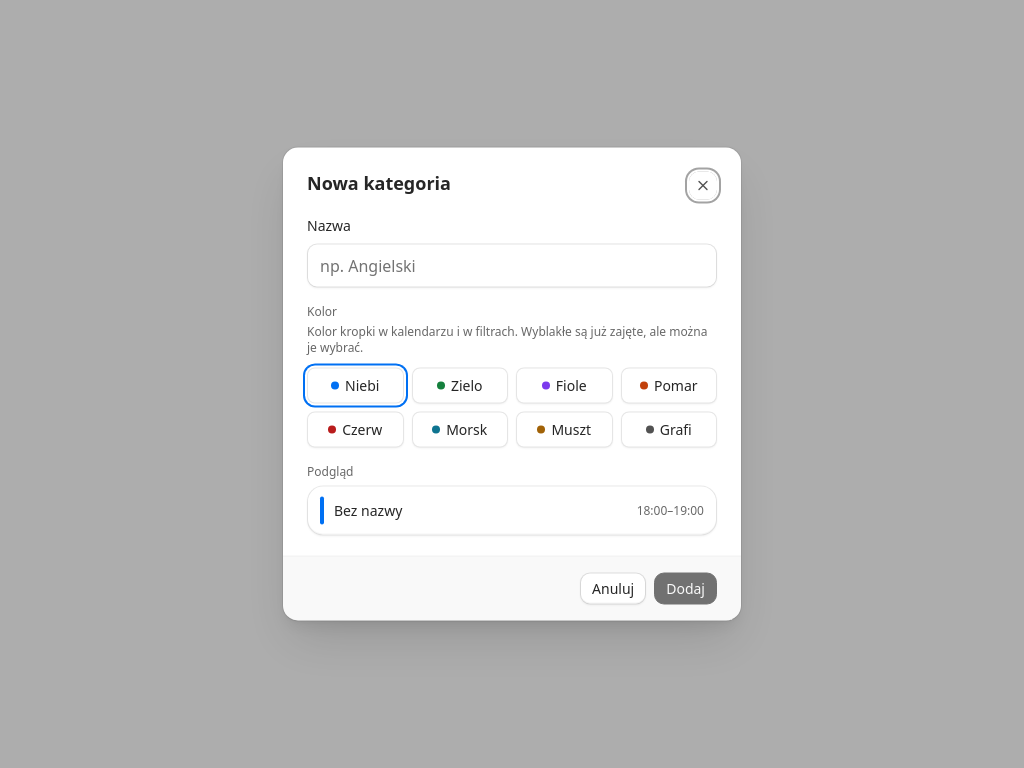
Test: MCategorySheet › pusta nazwa blokuje „Dodaj”; błąd pojawia się po dotknięciu pola
The width and height of the screenshot is (1024, 768).
expect the text "Nazwa nie może być pusta." is not shown: met
Type "A" into the field labelled "Nazwa".
click(512, 266); type("A")  # box [307,244,717,288]
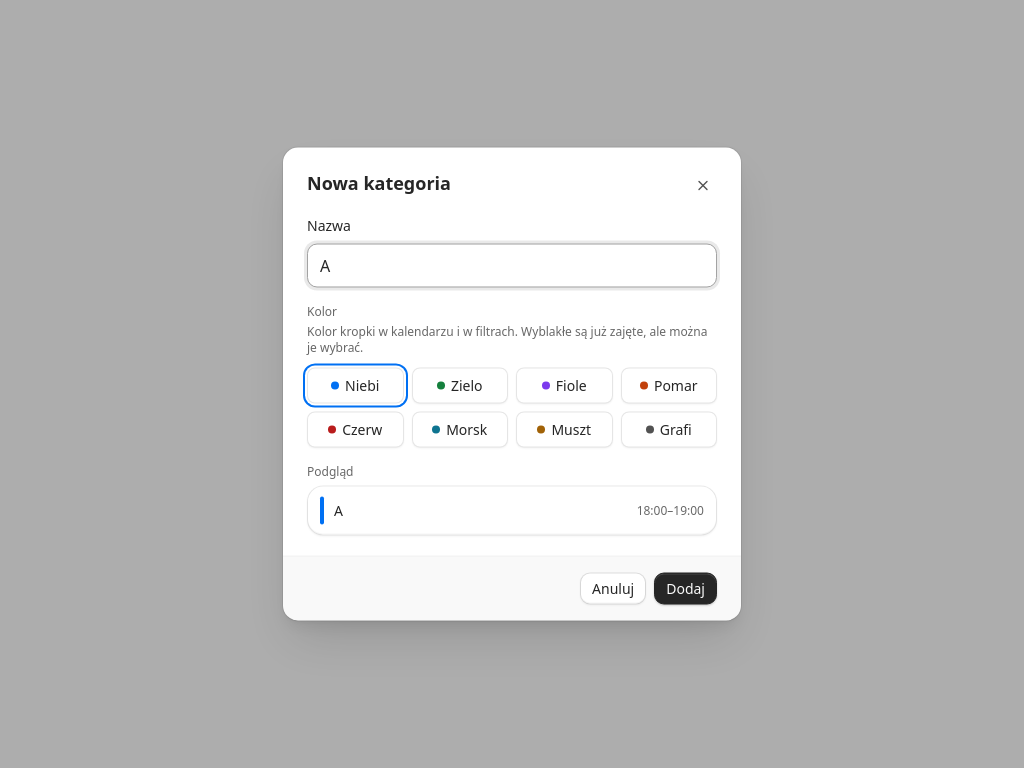
Clear the field labelled "Nazwa" at (512, 266), box [307,244,717,288]
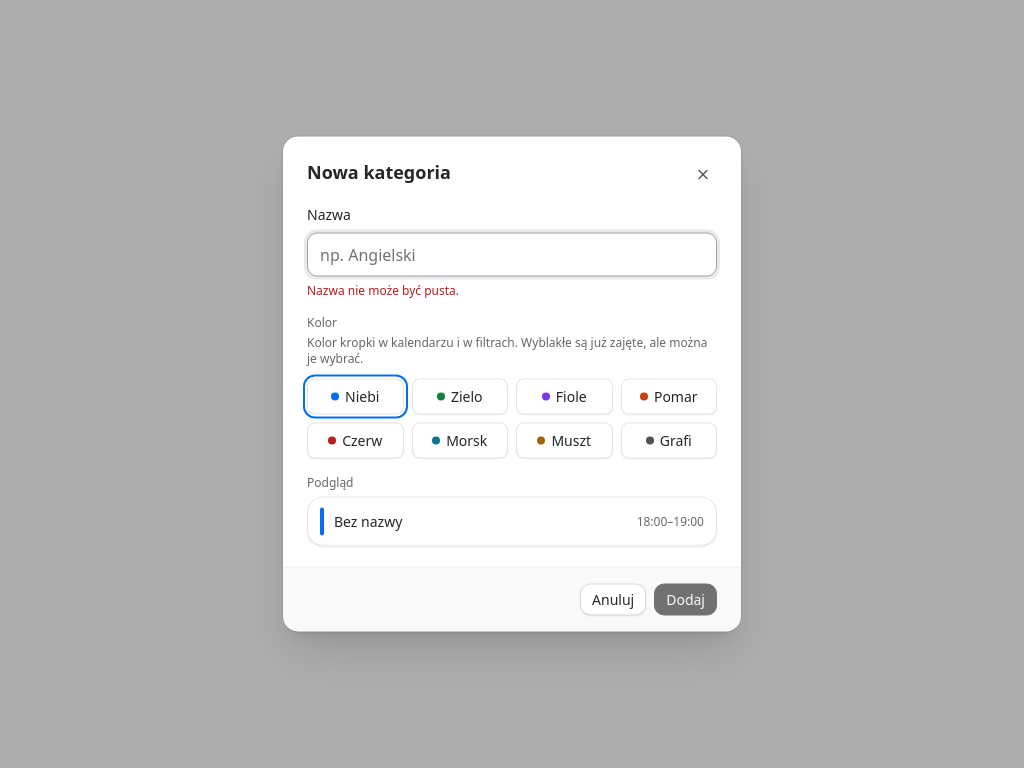
expect the text "Nazwa nie może być pusta." is shown: met, box [307,282,459,298]
